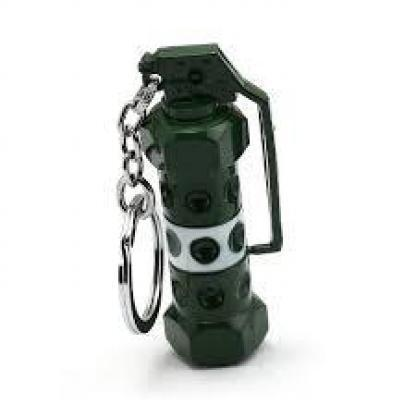Grenade: (113, 39, 283, 367)
